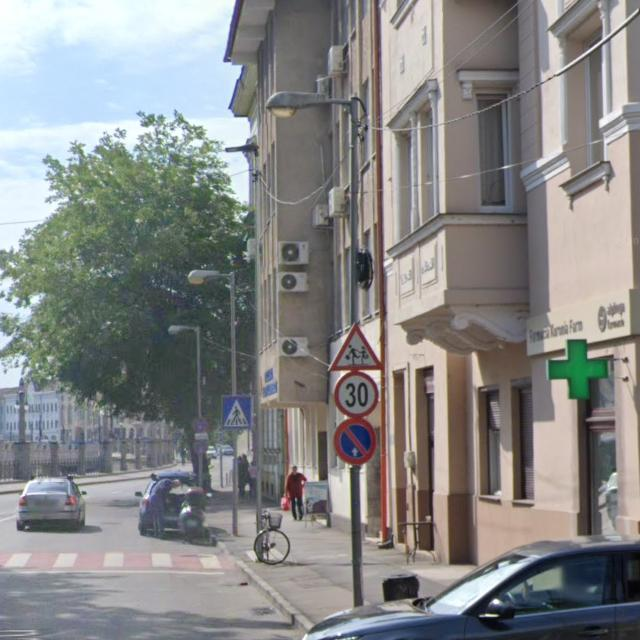forb_speed_over_30: (334, 370, 378, 418)
forb_stopping: (194, 418, 208, 432)
info_crosswalk: (222, 395, 252, 430)
warn_children: (328, 322, 382, 369)
